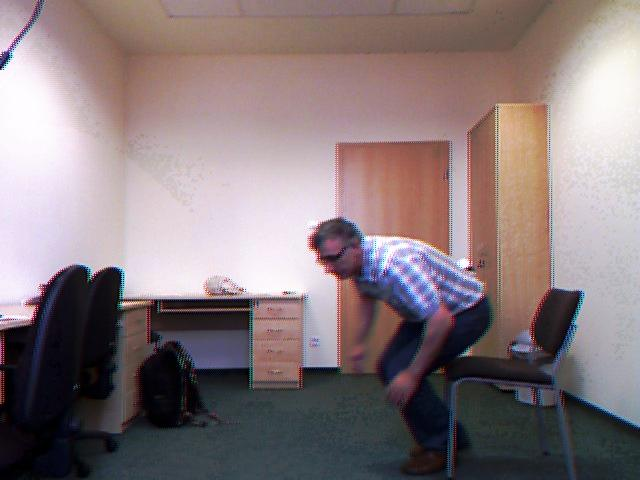near-fall: (300, 205, 504, 480)
